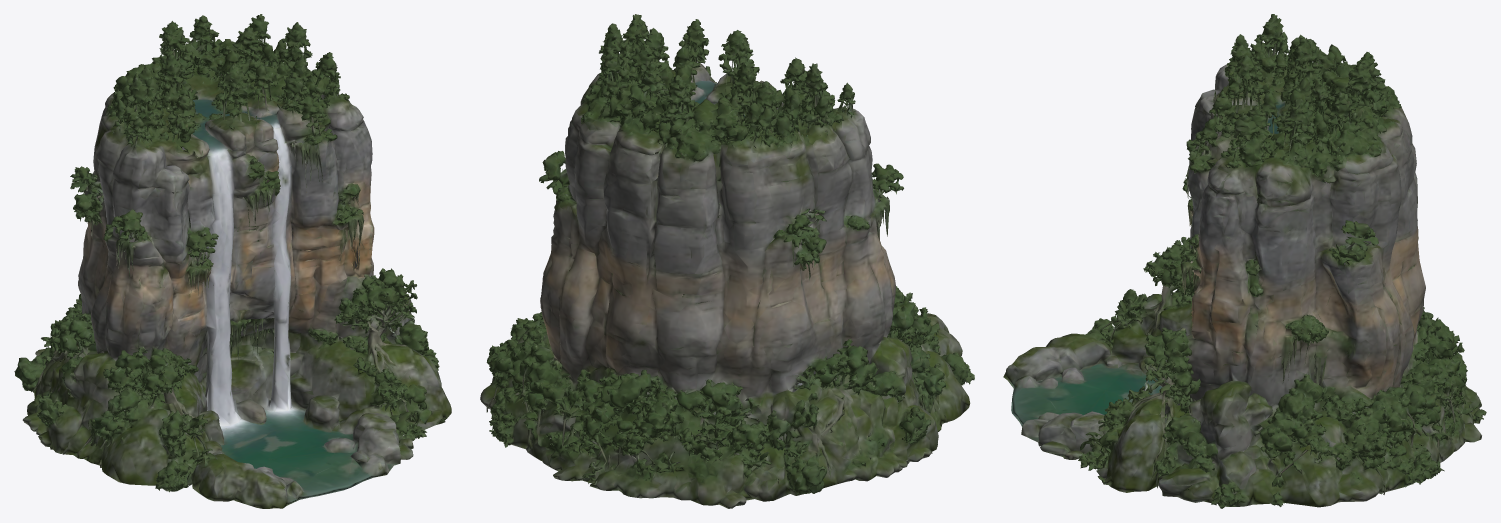
File: av_falls.glb
3 renders of one model, left to right at view 1: azimuth 30°, elevation 25°; view 2: azimuth 150°, elevation 25°; view 3: azimuth 270°, elevation 25°, orthographic. The views are drawn at different scales.
Visible parts, largest first — view 1: av_falls; view 2: av_falls; view 3: av_falls.
Part boxes in pixels (box(x1,y1,x2,y2)): av_falls: box(14, 14, 451, 508); av_falls: box(480, 14, 974, 508); av_falls: box(1003, 14, 1486, 508).
Bounding box in the file's own units: 1.79 × 1.56 × 1.9.
Materials: 1 (1 with a texture image).
